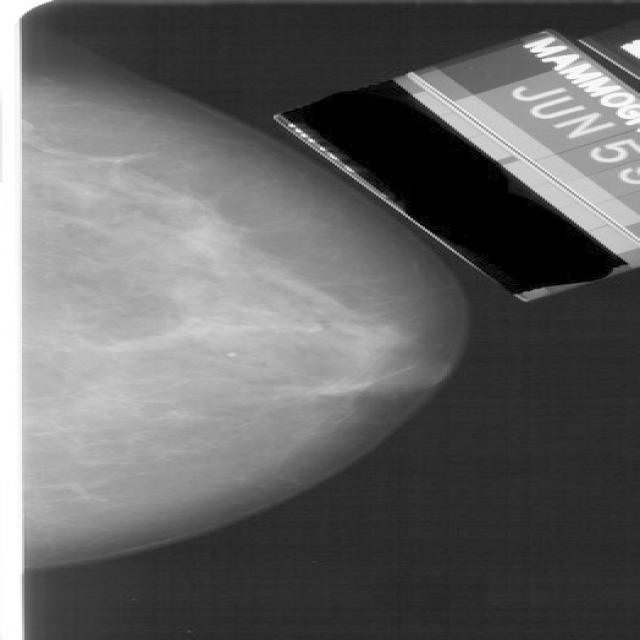tumour: (168, 216, 259, 270)
